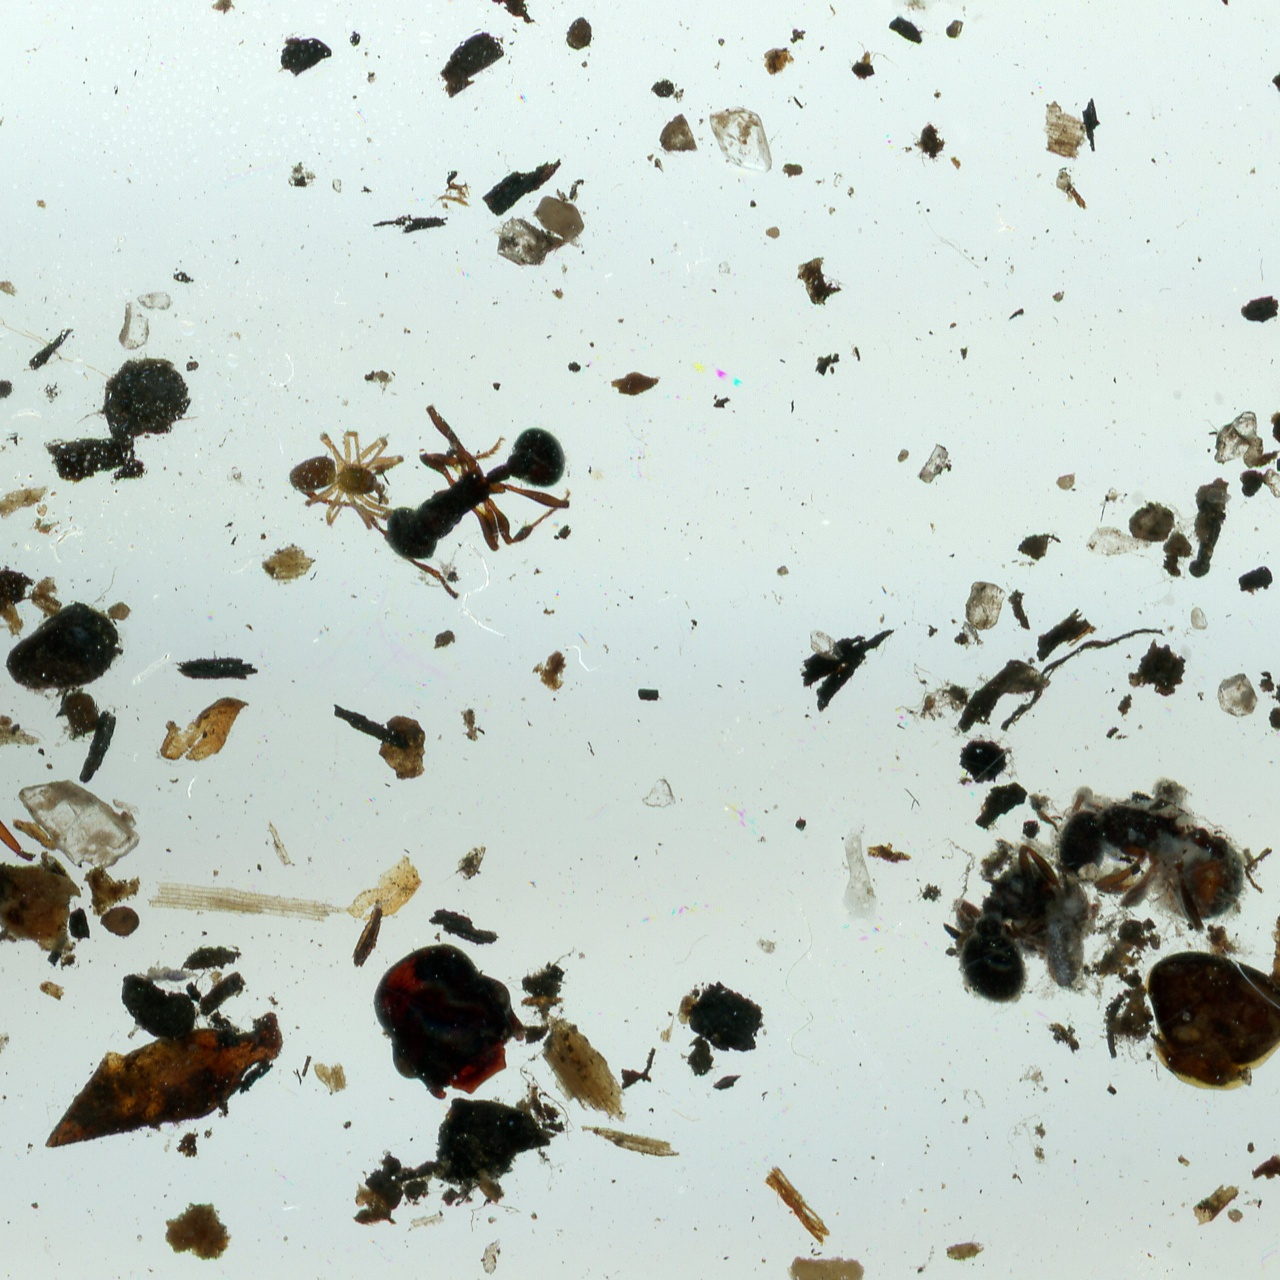arthropod: (295, 342, 601, 639), (1012, 775, 1263, 948), (950, 837, 1064, 1011), (287, 428, 405, 532), (1043, 871, 1091, 990)
